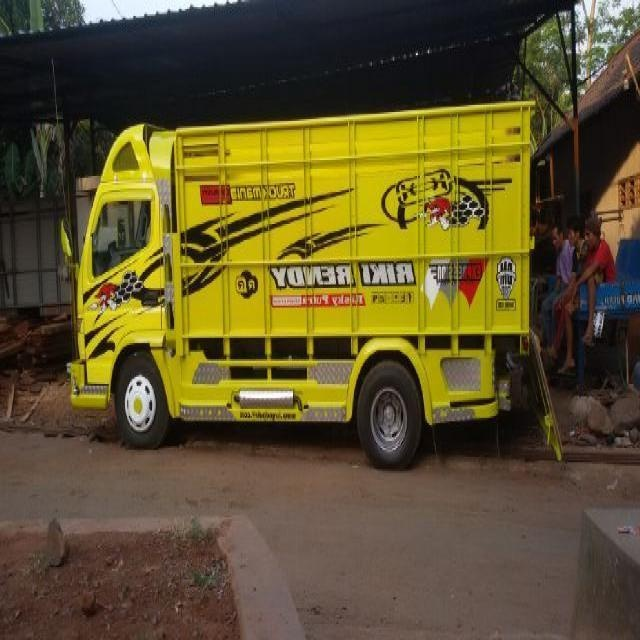Truck: (61, 101, 538, 459)
